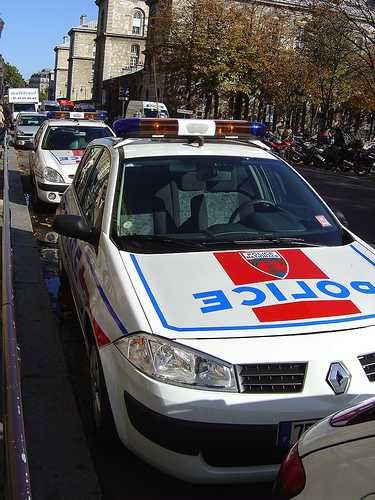Police Car: (54, 96, 375, 490), (25, 78, 108, 188)
